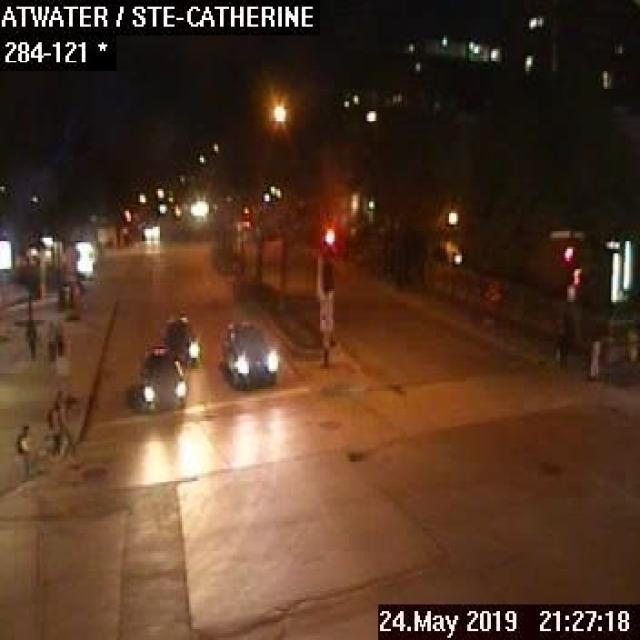cyclist: (36, 388, 84, 463)
pedestrian: (549, 313, 568, 369), (14, 422, 31, 480), (586, 332, 599, 377), (44, 315, 56, 359), (55, 320, 63, 355)
vehicle: (216, 315, 276, 389), (134, 345, 186, 409), (161, 317, 199, 365), (141, 220, 159, 238)
